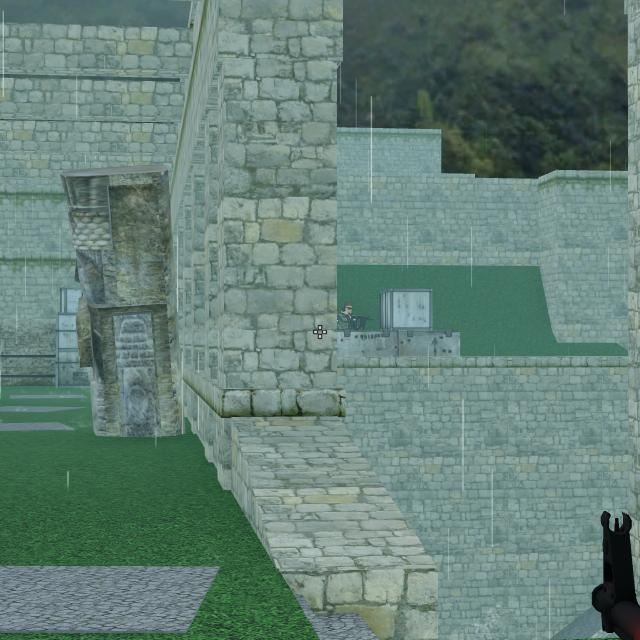Head: (341, 302, 354, 314)
Player: (338, 301, 370, 329)
